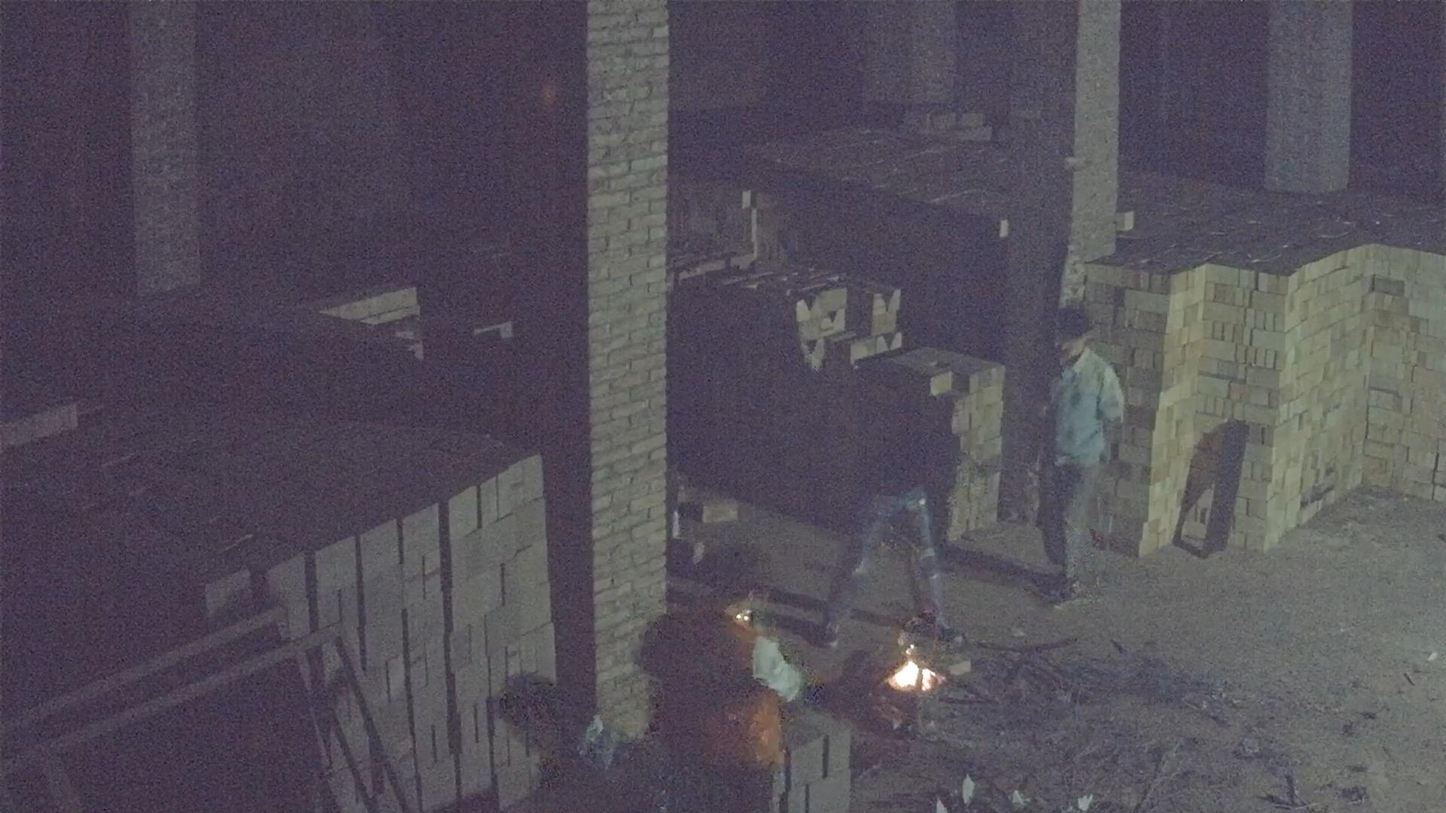fire: (886, 652, 944, 693)
